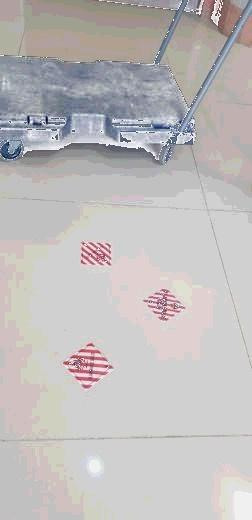flammable-solid: (64, 342, 113, 387), (145, 288, 186, 322), (79, 240, 112, 267)
